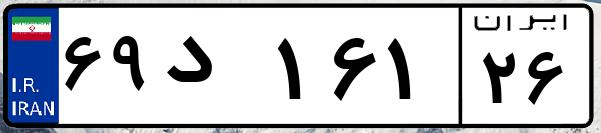1: (270, 28, 330, 110), (385, 28, 445, 110)
2: (475, 38, 525, 113)
6: (330, 28, 385, 110), (57, 26, 110, 100), (525, 38, 570, 115)
9: (110, 28, 158, 98)
د: (158, 20, 270, 120)
